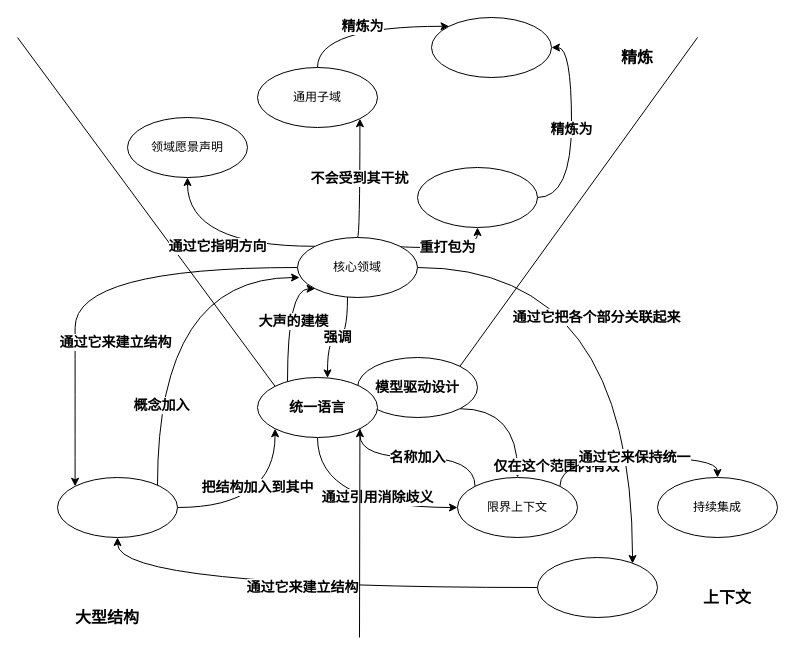
Image size: 795x656. Some labels were removed from this diagram. The box of each missing label's shape, as (x1, y1, x2, y2) in pixels:
上下文映射: (536, 556, 658, 618)
分离核心: (416, 166, 538, 228)
声明式风格: (430, 16, 552, 78)
演变的顺序: (56, 476, 178, 538)
